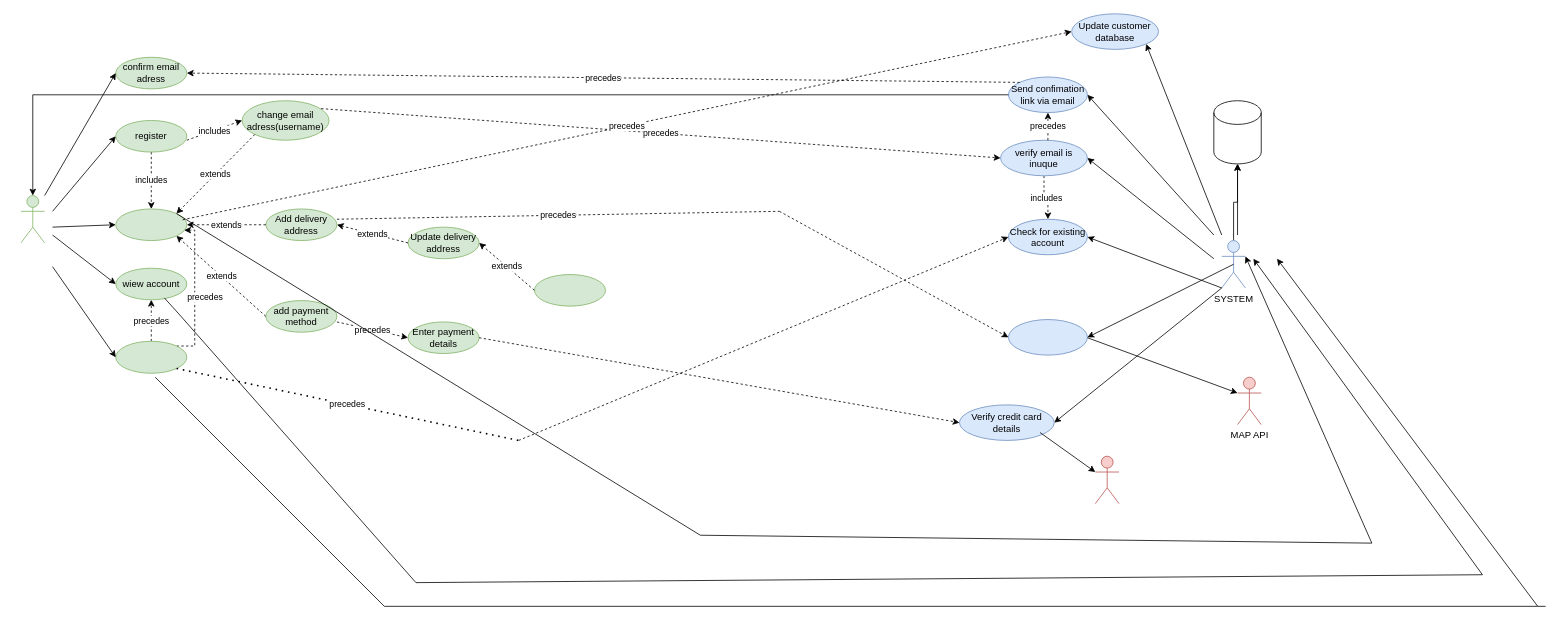
This 1560x626 diagram has some shape labels left out. Each missing label, with the box of its shape:
Custome database: (1213, 100, 1261, 164)
customer: (20, 195, 45, 243)
Delete delivery address: (534, 274, 606, 306)
Login: (115, 340, 187, 373)
Third-party payment verification serviice: (1095, 455, 1119, 504)
update account details: (115, 208, 187, 241)
Verify valid address: (1008, 319, 1087, 355)
